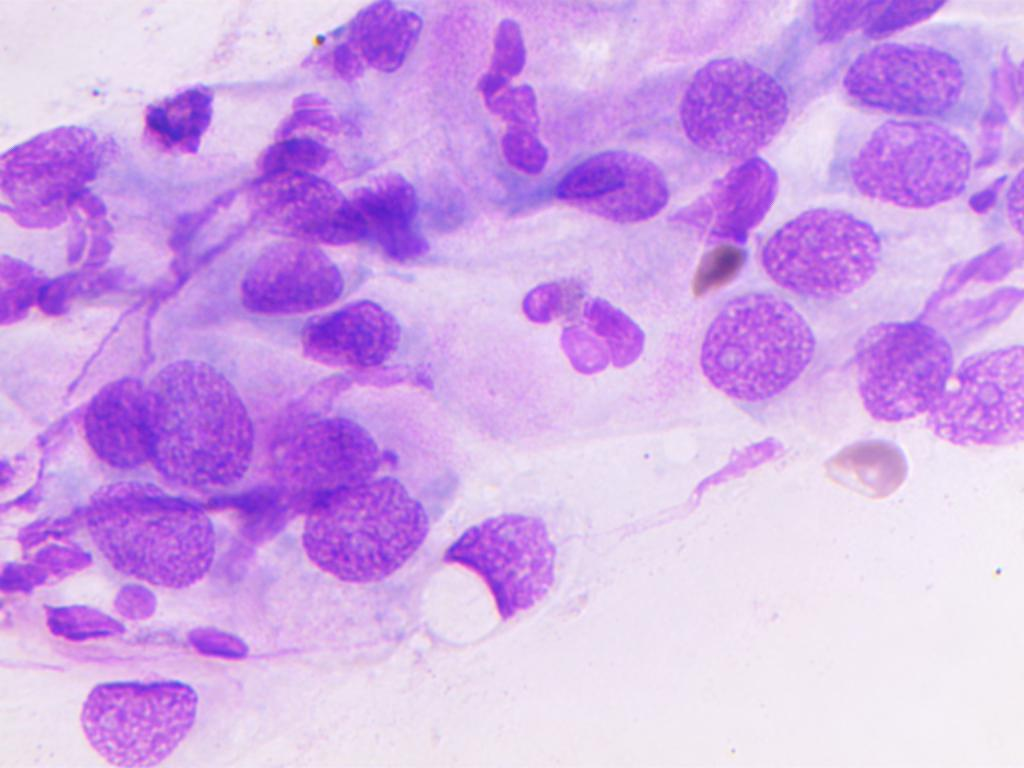artifact: (351, 159, 440, 271), (818, 428, 918, 521), (676, 160, 784, 244)
epithelial: (691, 295, 826, 422), (141, 355, 265, 488), (301, 476, 434, 593), (793, 117, 976, 202), (82, 477, 219, 589), (676, 30, 794, 156), (266, 391, 386, 499), (848, 313, 954, 433), (931, 322, 1024, 458), (764, 201, 899, 294), (0, 117, 116, 217), (302, 0, 429, 90), (246, 165, 379, 248), (286, 298, 440, 369), (840, 34, 981, 110), (222, 234, 346, 311), (73, 373, 157, 473), (549, 155, 672, 218), (0, 239, 69, 334)
goblet_cell: (399, 496, 581, 654), (76, 670, 208, 768)
neutrophil: (516, 264, 662, 389), (129, 76, 238, 186), (0, 509, 89, 601)
